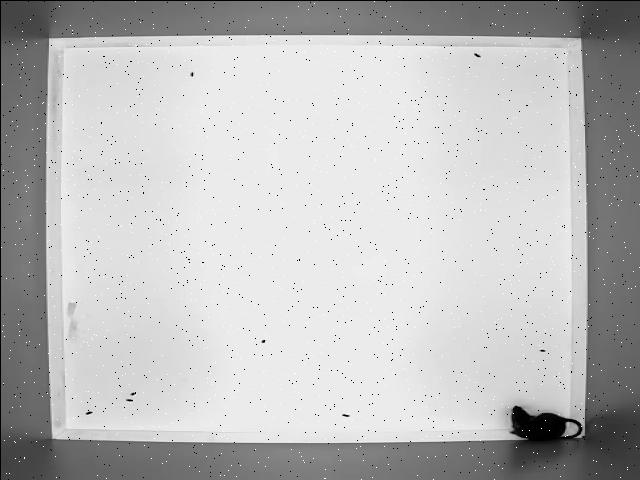Tikus: (490, 403, 586, 442)
